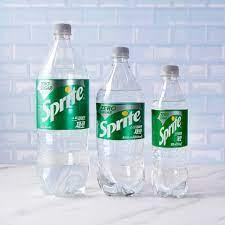sprite_zero: (150, 62, 192, 197)
